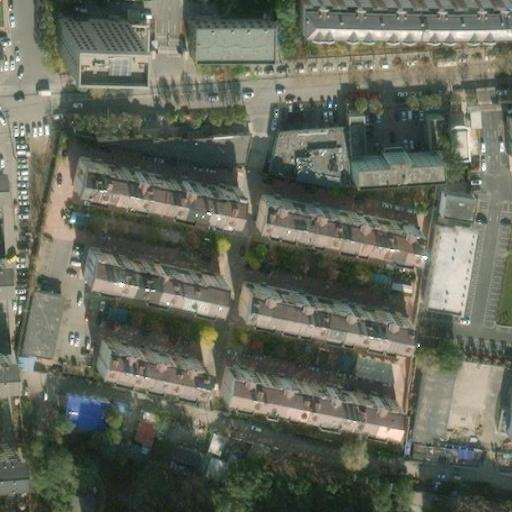building: (64, 148, 234, 214), (226, 271, 398, 335), (206, 356, 385, 416), (250, 187, 413, 248), (411, 189, 474, 313), (76, 243, 212, 294), (88, 333, 196, 379), (261, 118, 344, 175), (409, 360, 459, 447), (12, 284, 56, 357), (93, 397, 148, 455), (184, 21, 267, 58), (43, 11, 114, 48), (343, 146, 431, 175), (53, 387, 103, 425), (348, 352, 396, 387), (165, 443, 207, 476), (451, 495, 511, 512), (416, 111, 441, 150), (340, 109, 360, 155), (114, 13, 139, 49), (201, 453, 230, 484), (0, 448, 24, 485), (0, 185, 12, 258), (0, 357, 22, 396), (439, 120, 460, 155), (0, 300, 11, 357), (501, 378, 512, 431), (499, 113, 512, 153)
